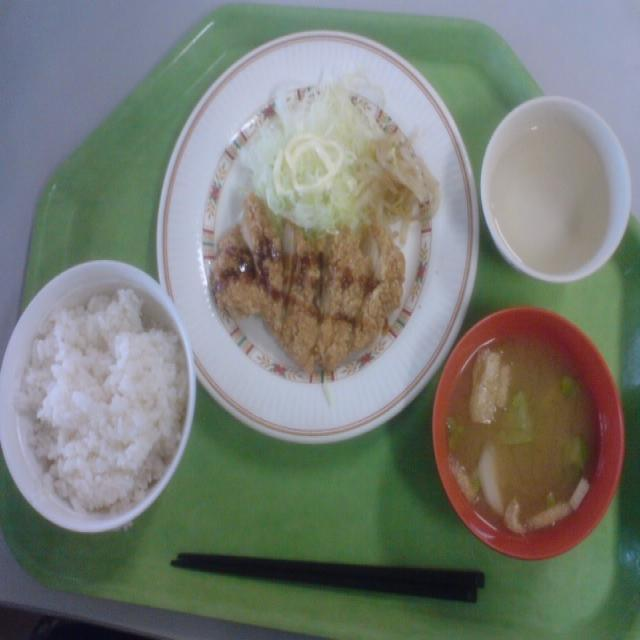Rice: (28, 284, 187, 513)
